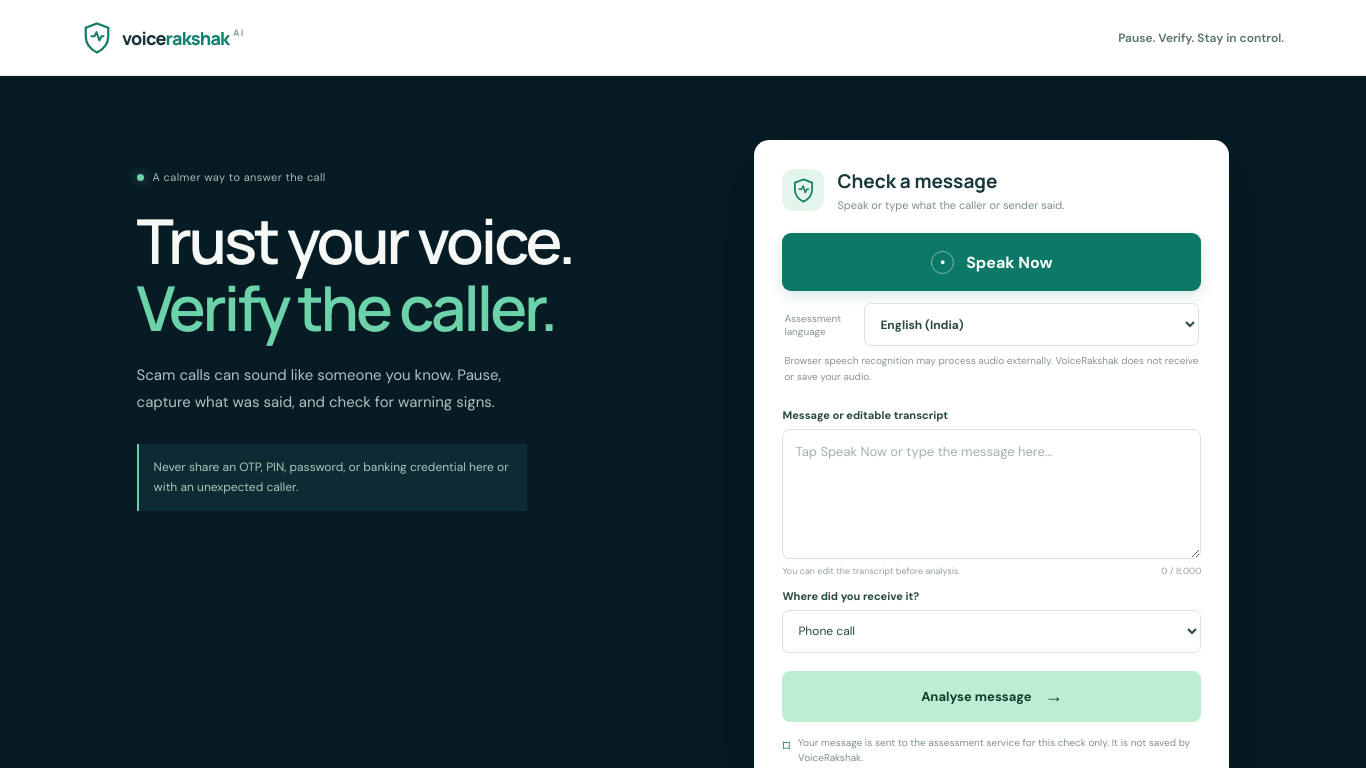
Scenario: VoiceRakshak assessment interface › sends the actual API request schema and renders the backend assessment
Type "Send me your OTP." into the text box labelled "Message or editable transcript" at (992, 494), box [782,429,1201,559]
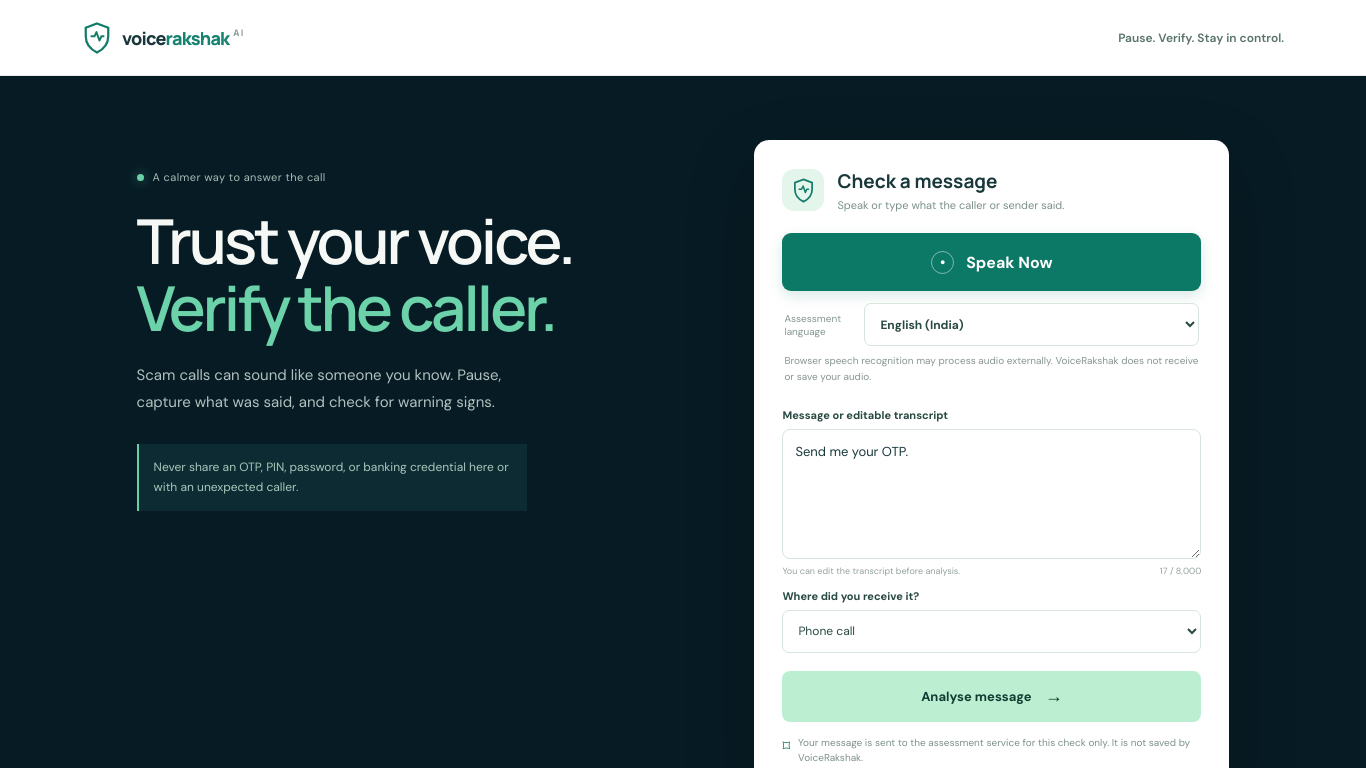
Select "WhatsApp" in the dropdown labelled "Where did you receive it?" at (992, 632), box [782,610,1201,653]
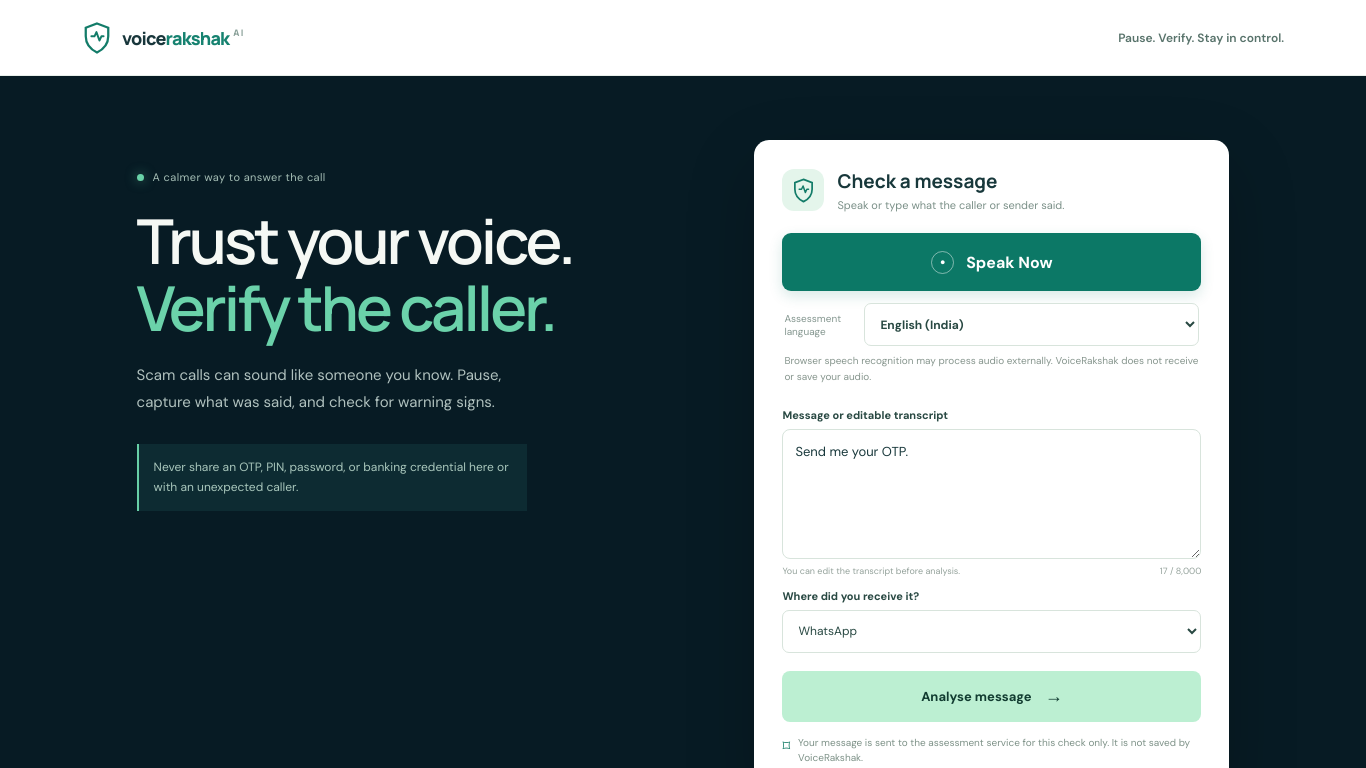
Click the button "Analyse message →" at (992, 696), box [782,671,1201,722]
(page scrolled)
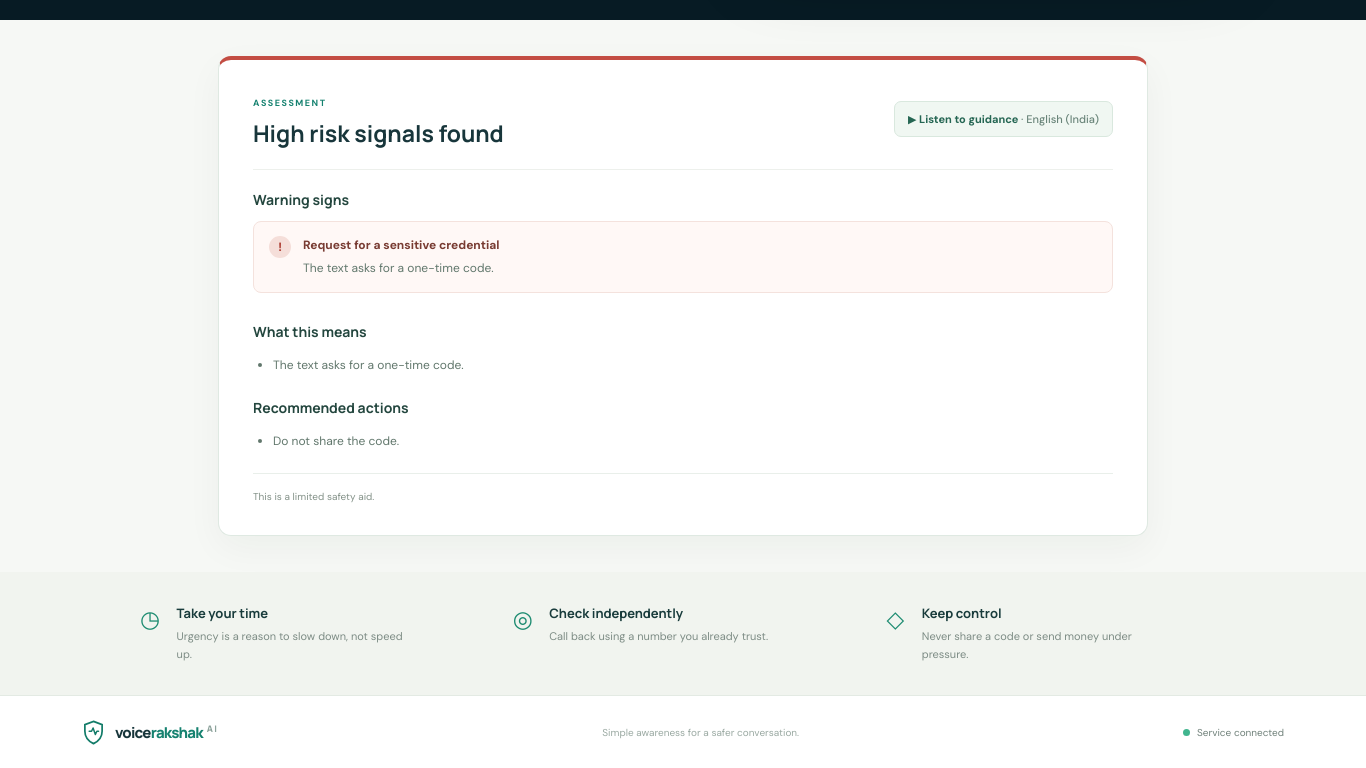
Now the heading "High risk signals found" is shown, box [253,117,504,149]
Now the heading "Request for a sensitive credential" is shown, box [303,237,500,253]
Now the list item "Do not share the code." is shown, box [273,433,399,449]
